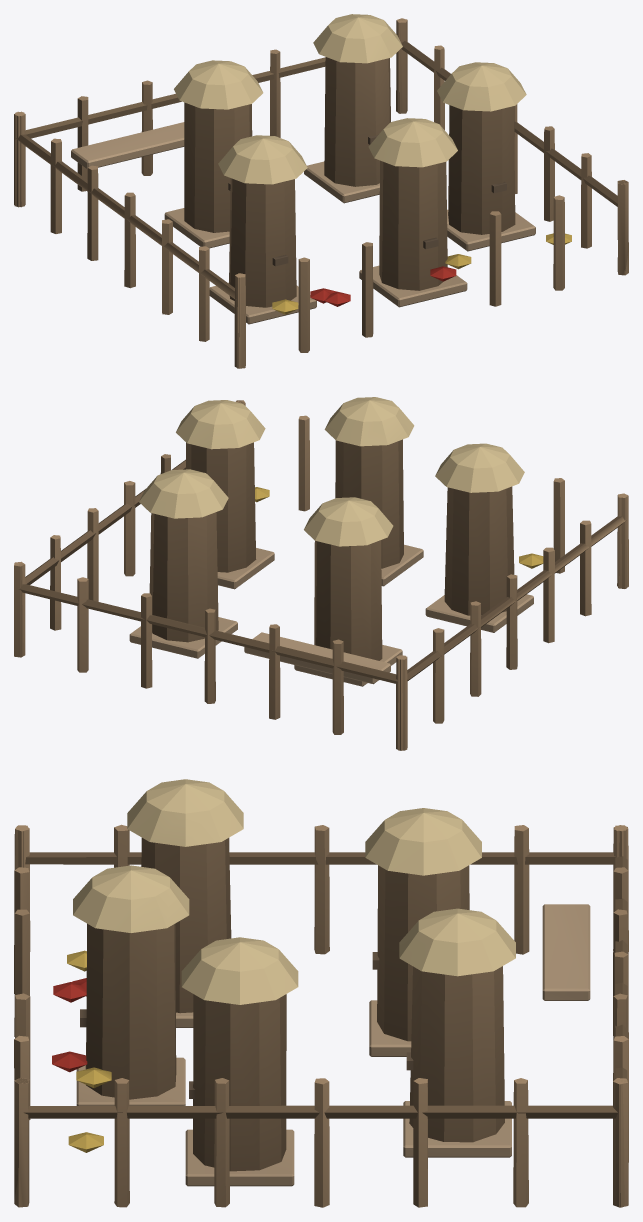
Rendered from bld_paseka.glb.
3 renders of one model, top to bottom at view 1: azimuth 30°, elevation 25°; view 2: azimuth 150°, elevation 25°; view 3: azimuth 270°, elevation 25°, orthographic. The views are drawn at different scales.
Parts seen in each view (by area): view 1: paseka; view 2: paseka; view 3: paseka.
Part boxes in pixels (box(x1,y1,x2,y2)): paseka: box(14, 14, 628, 368); paseka: box(14, 397, 628, 750); paseka: box(14, 779, 628, 1207).
Size of the model in its own units: 0.9041 by 0.36 by 0.9042.
